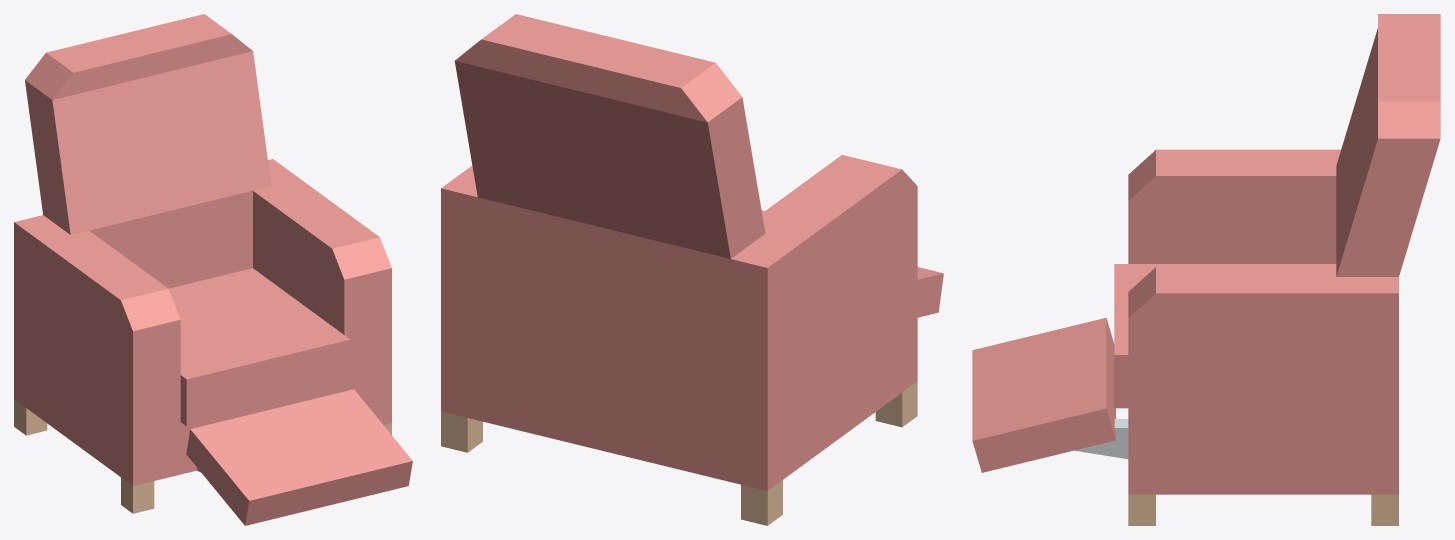
File: loungeChairRelax.gltf
The picture shows the model from 3 angles, left to right: view 1: azimuth 30°, elevation 25°; view 2: azimuth 150°, elevation 25°; view 3: azimuth 270°, elevation 25°; orthographic projection. The views are drawn at different scales.
Visible parts, largest first — view 1: loungeChairRelax(Clone); view 2: loungeChairRelax(Clone); view 3: loungeChairRelax(Clone).
Part boxes in pixels (<box>): loungeChairRelax(Clone): <box>14,14,412,525</box>; loungeChairRelax(Clone): <box>441,14,943,525</box>; loungeChairRelax(Clone): <box>972,14,1440,525</box>.
Size of the model in its own units: 0.49 by 0.63 by 0.6747.
